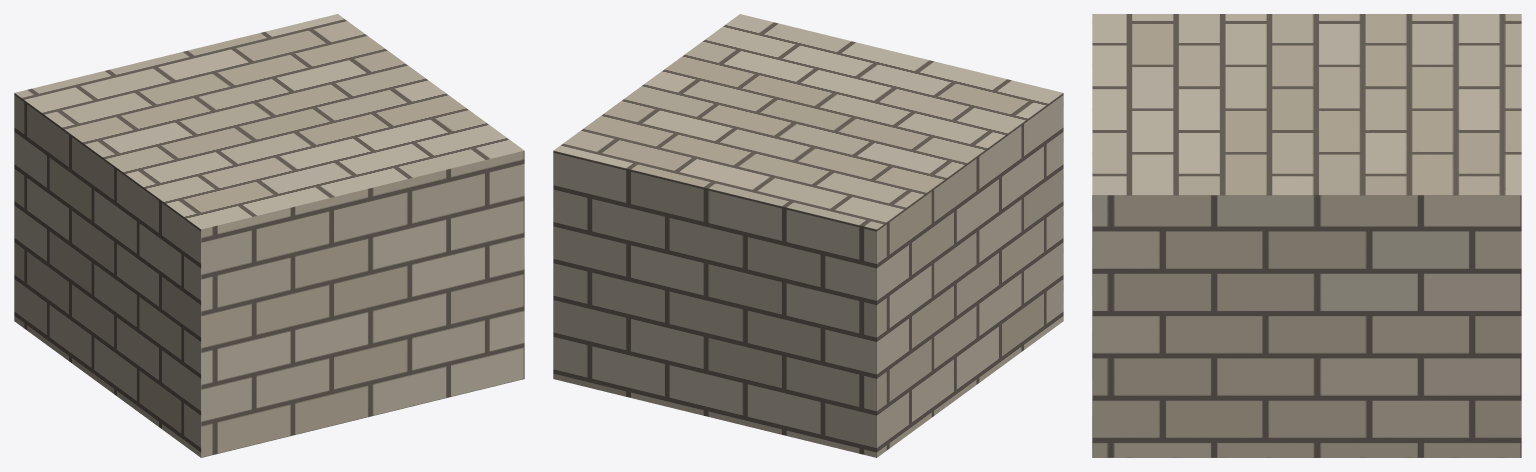
File: castle_plinth.glb
The picture shows the model from 3 angles, left to right: view 1: azimuth 30°, elevation 25°; view 2: azimuth 150°, elevation 25°; view 3: azimuth 270°, elevation 25°; orthographic projection. The views are drawn at different scales.
Visible parts, largest first — view 1: castle_plinth; view 2: castle_plinth; view 3: castle_plinth.
Boxes of the visible parts, bbox=[...] form: castle_plinth: bbox=[14, 14, 524, 457]; castle_plinth: bbox=[553, 14, 1063, 457]; castle_plinth: bbox=[1092, 14, 1521, 457].
Size of the model in its own units: 4 by 2.7 by 4.
Materials: 1 (1 with a texture image).
